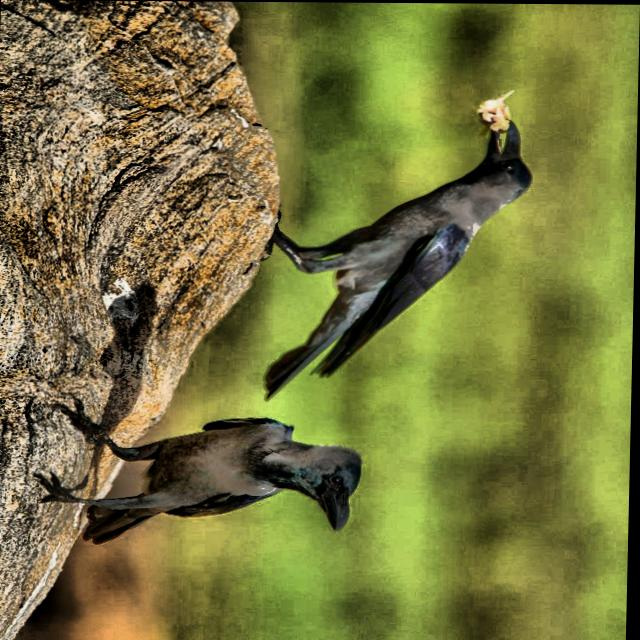crow: (214, 80, 554, 405), (17, 409, 364, 554)
